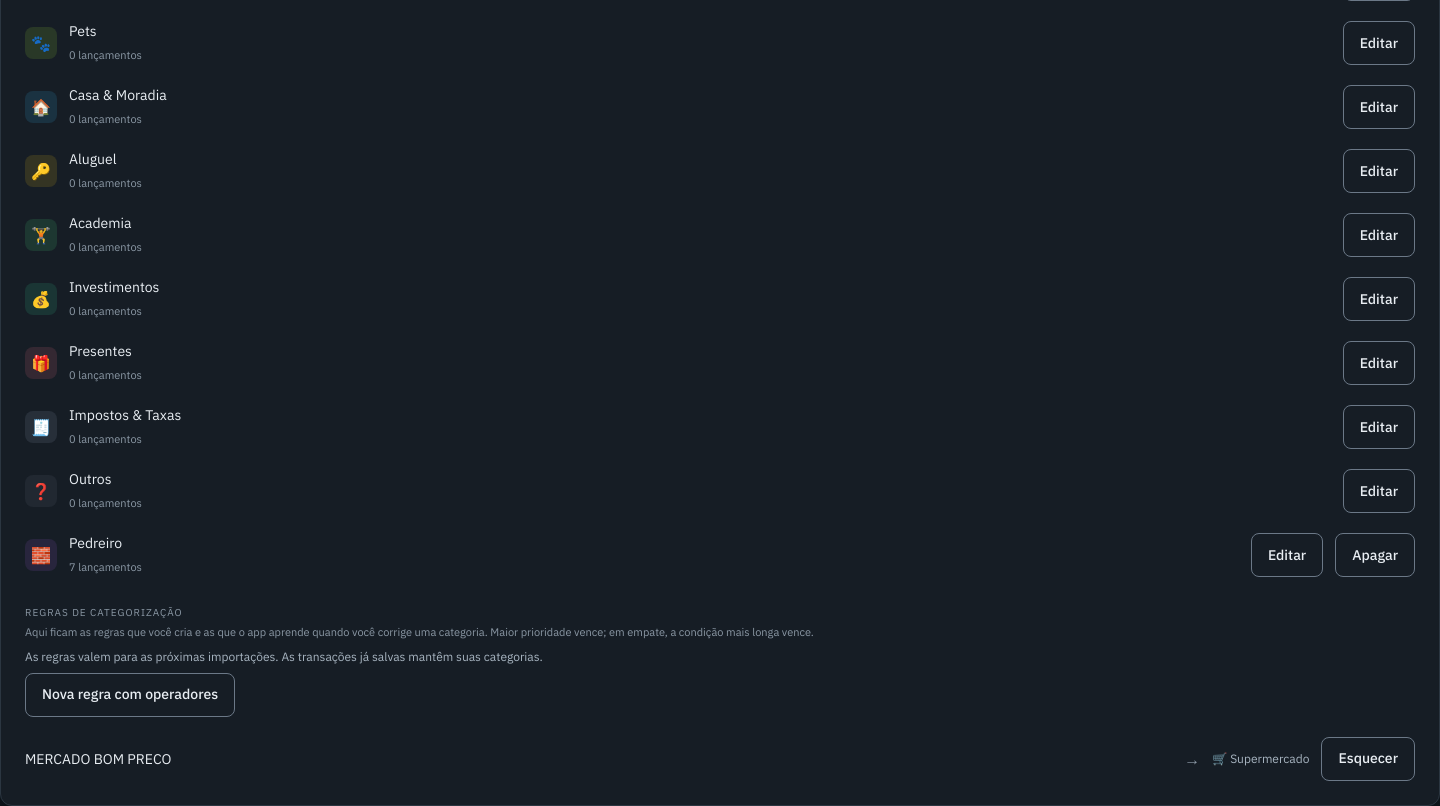
Test: Categorias › cria regra com texto, banco e valor apenas para próximas importações
(page scrolled)
Click the button "Nova regra com operadores".
click(130, 694)  # box [25,672,235,716]
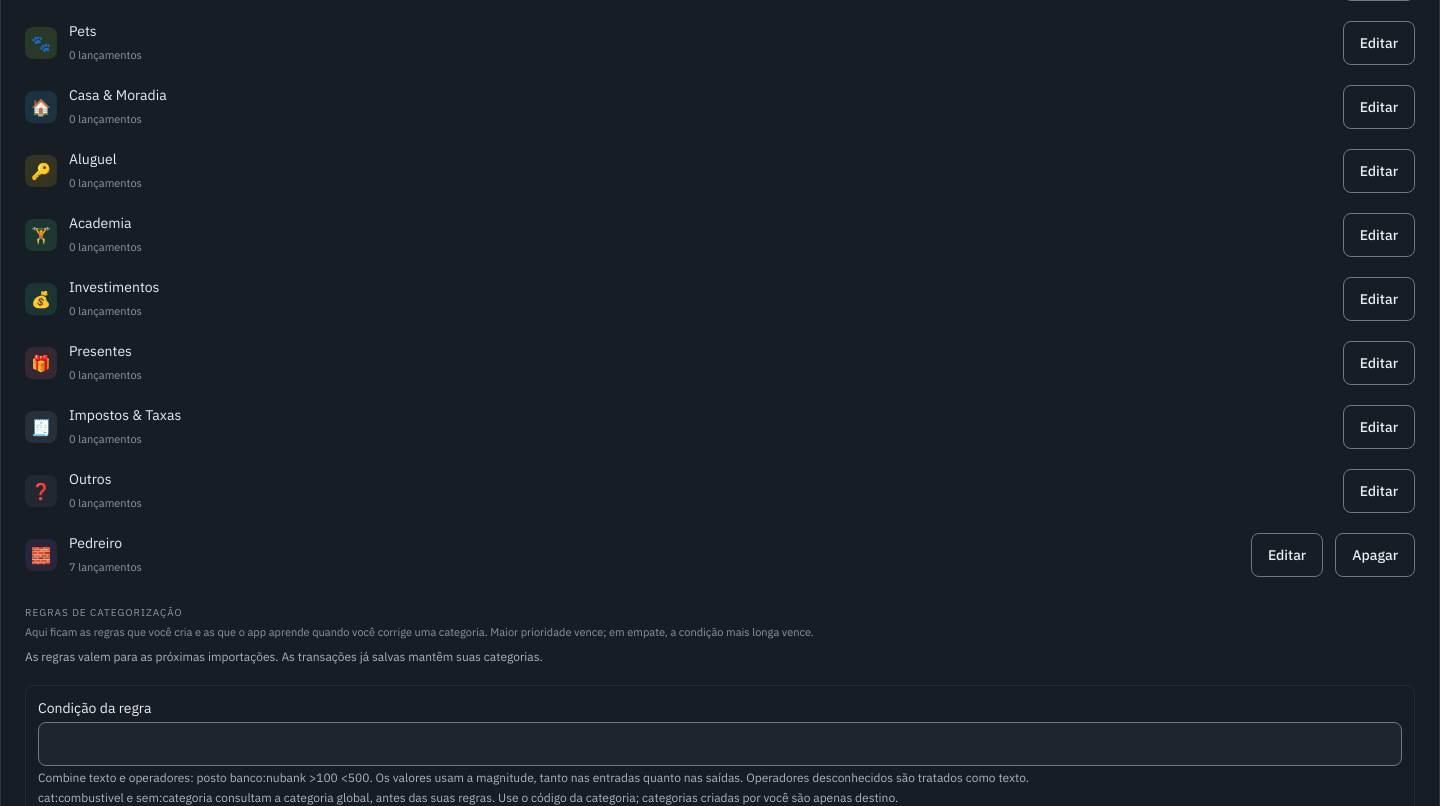
Expected: the text "As regras valem para as próximas importações" is shown, [25,648,543,664]
Type "posto banco:nubank >100" into the field labelled "Condição da regra".
click(720, 744); type("posto banco:nubank >100")  # box [38,722,1402,766]
(page scrolled)
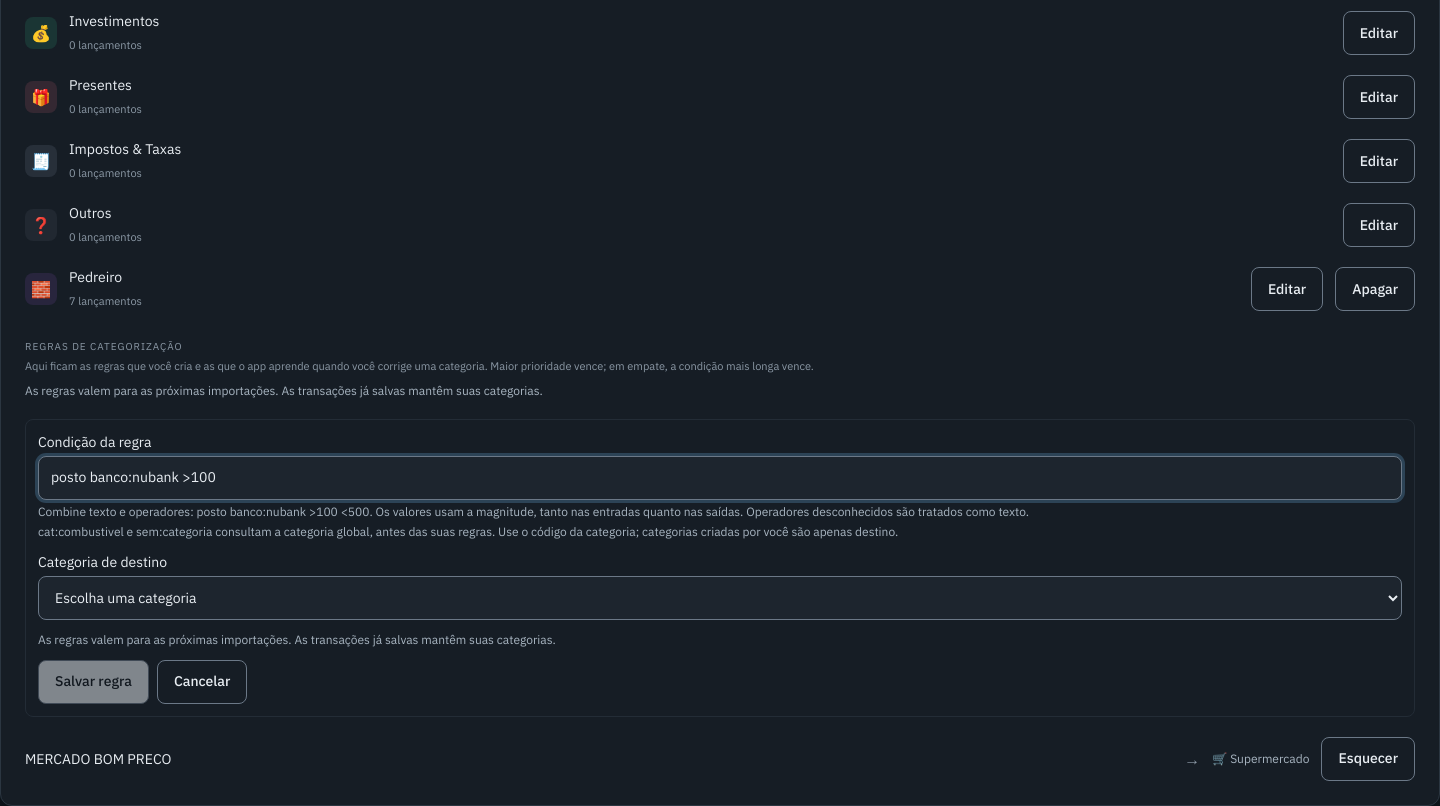
Select "🧱 Pedreiro" in the dropdown labelled "Categoria de destino" at (720,598), box [38,576,1402,620]
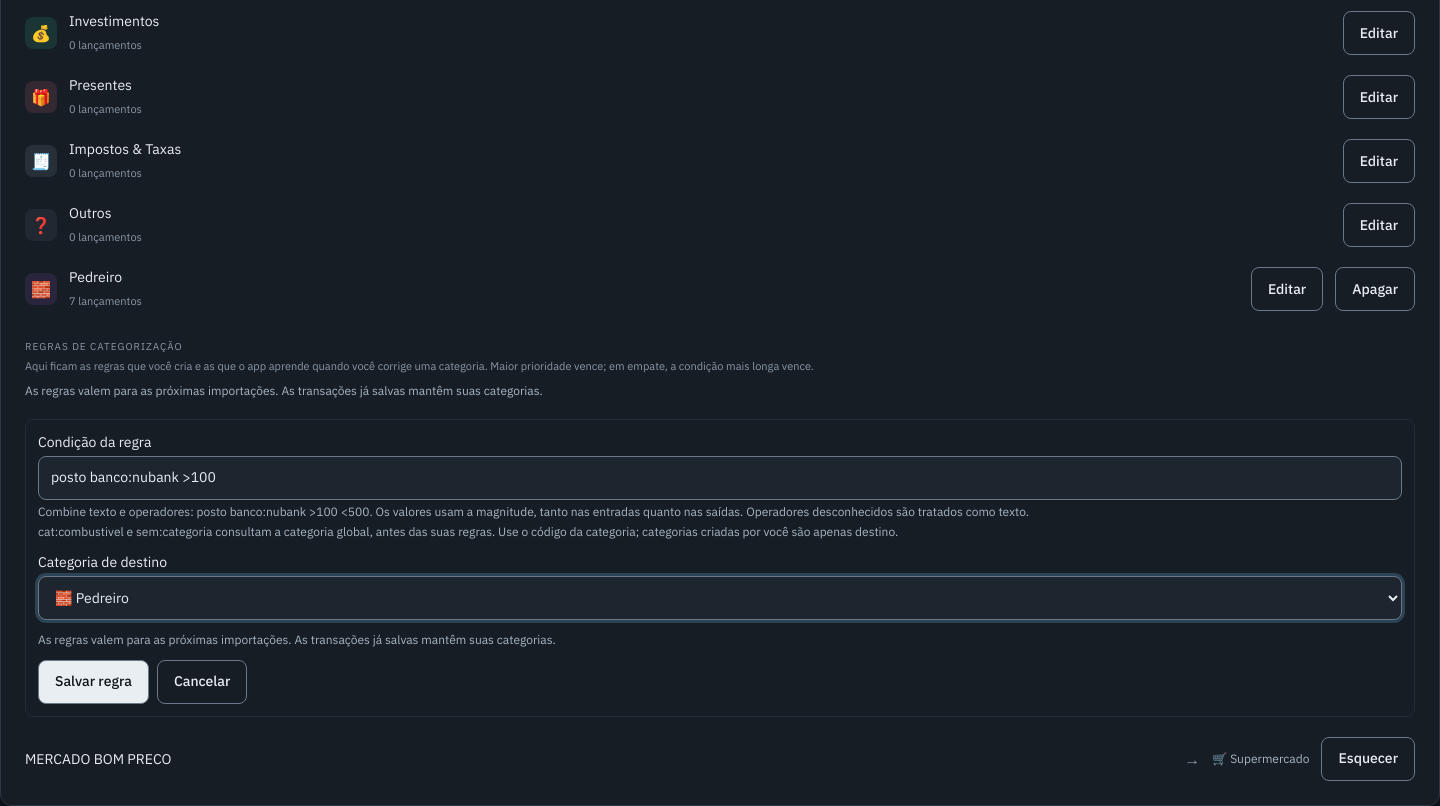
Click the button "Salvar regra".
click(93, 682)  # box [38,660,149,704]
(page scrolled)
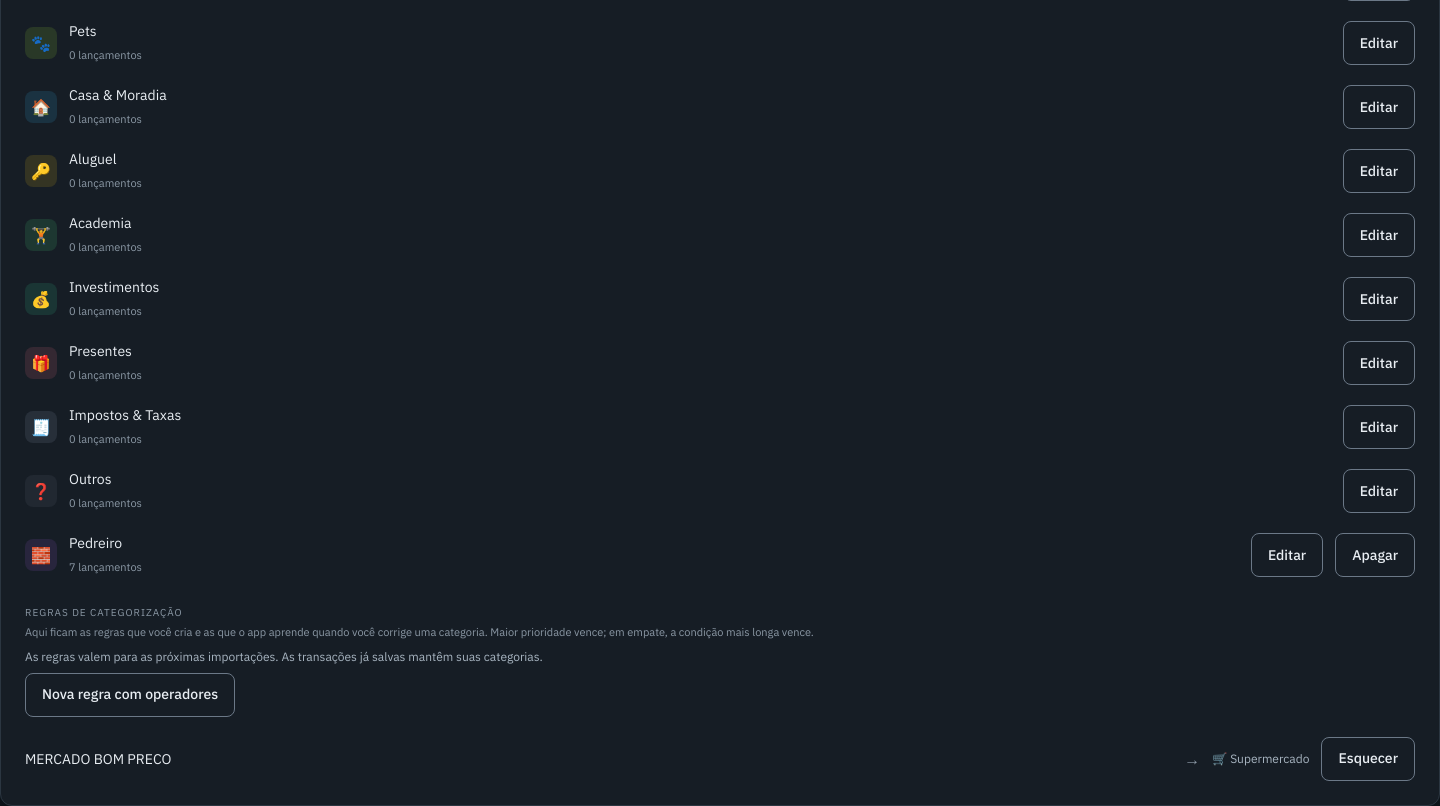
Expected: the label labelled "Condição da regra" is gone
